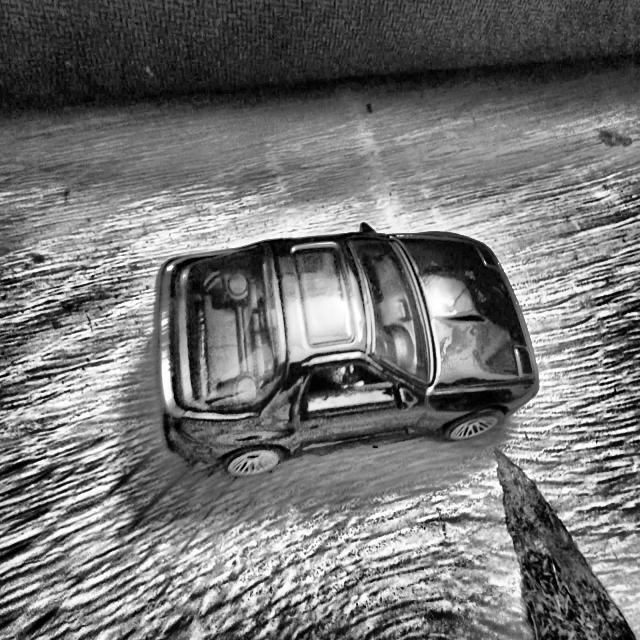car: (156, 222, 540, 478)
